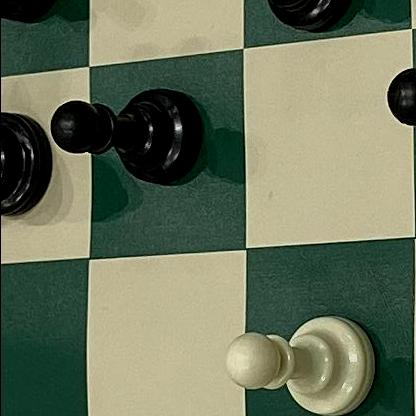black-bishop: (0, 108, 54, 216)
black-pawn: (46, 82, 206, 186), (193, 0, 363, 33), (373, 50, 416, 167)
white-pawn: (215, 311, 384, 416)
